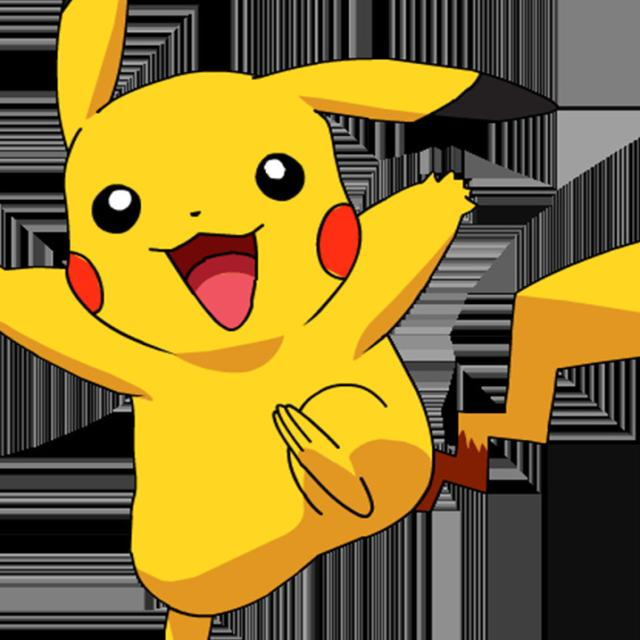Pikachu: (45, 57, 452, 574)
